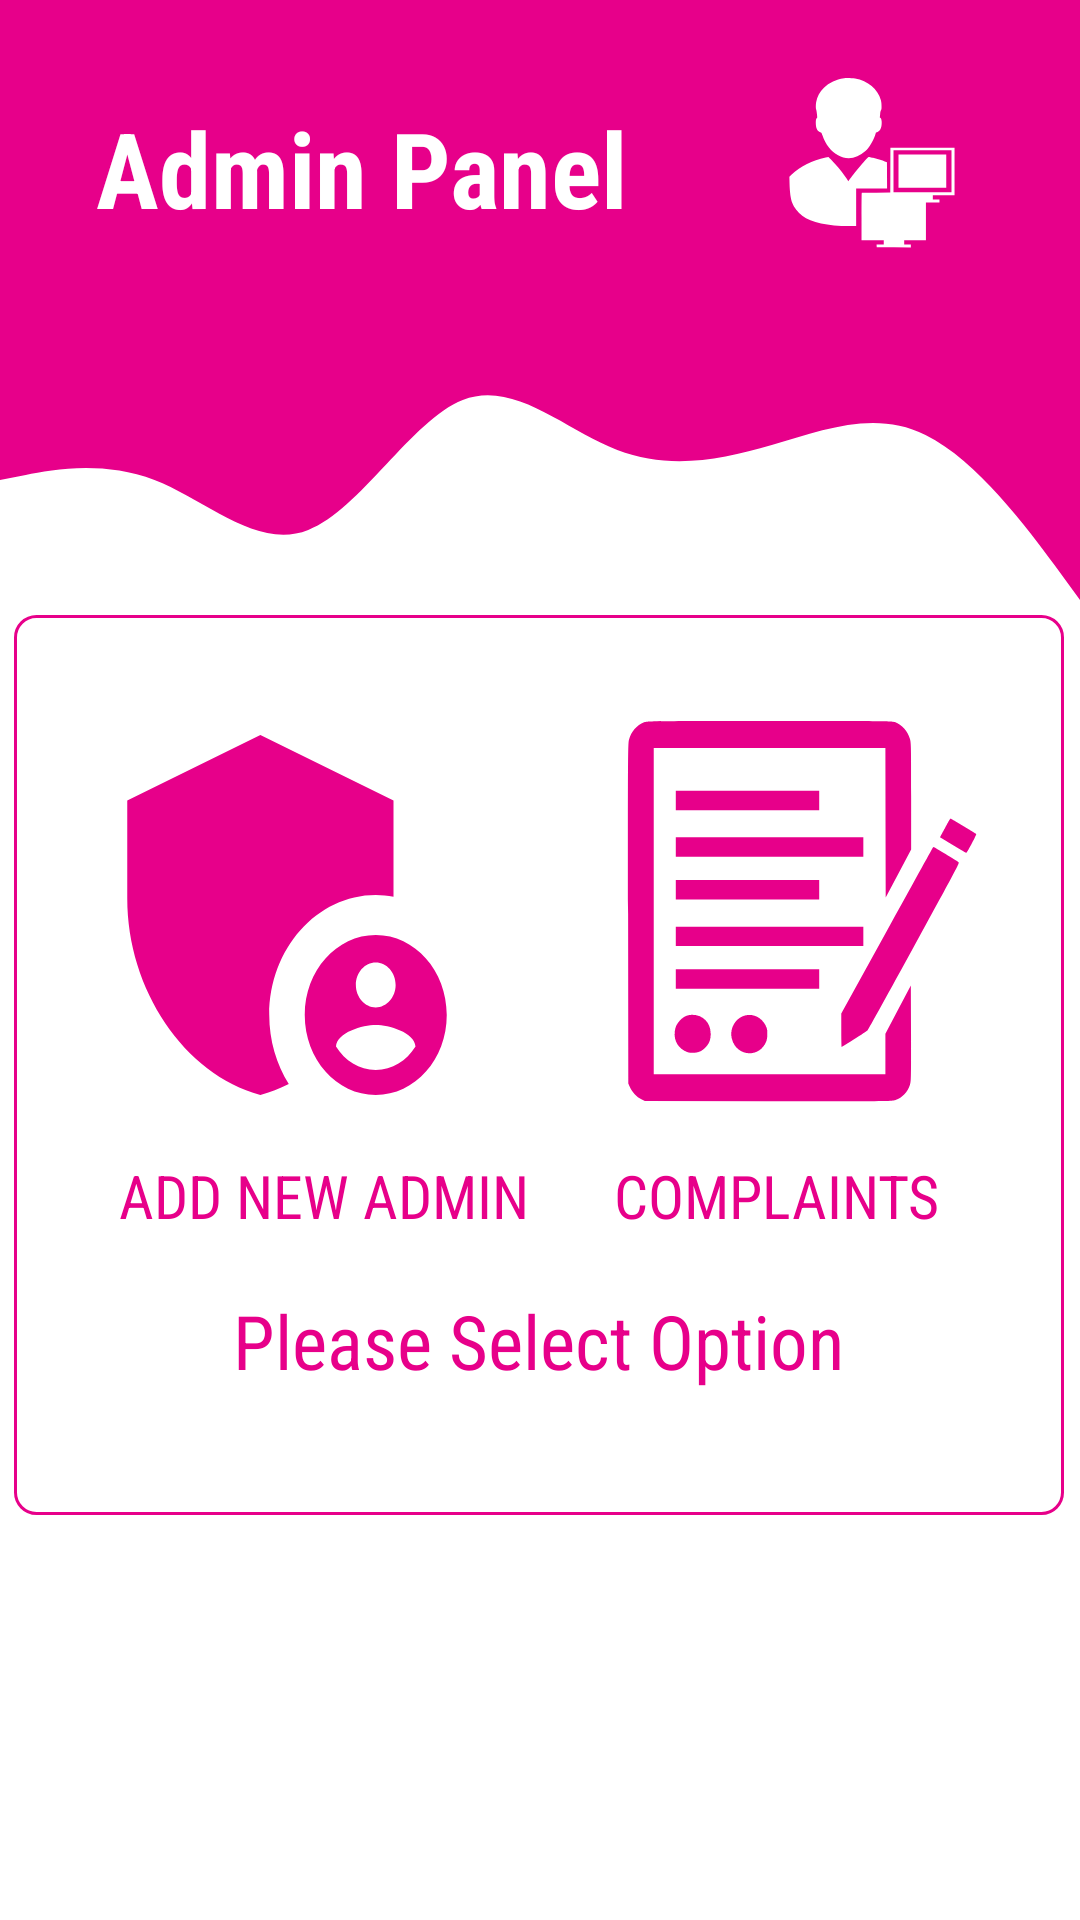

Where icons sit on this 1080px×1920px app screen, as bbox(x1, y1, x2, y2):
admin panel settings: bbox(127, 735, 447, 1095)
vect admin login signup: bbox(789, 78, 955, 248)
